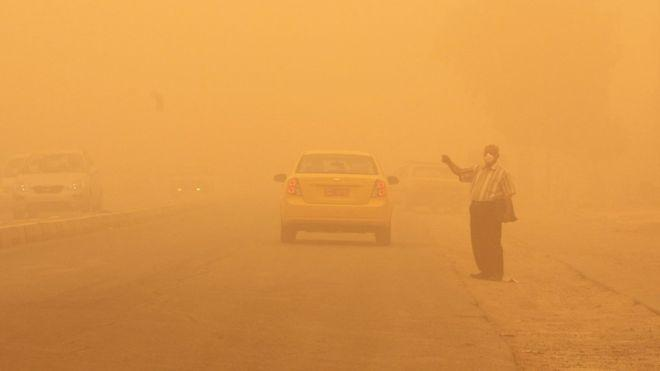car: (272, 149, 401, 246), (13, 146, 105, 222), (395, 157, 464, 211)
person: (440, 142, 518, 283)
